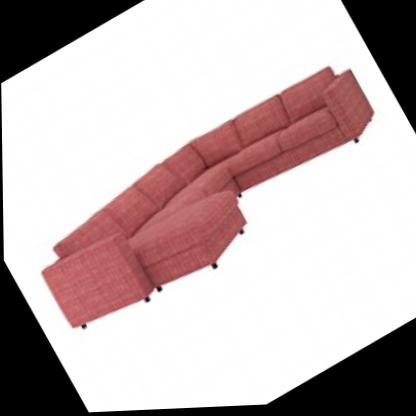Sofa: (8, 43, 405, 355)
